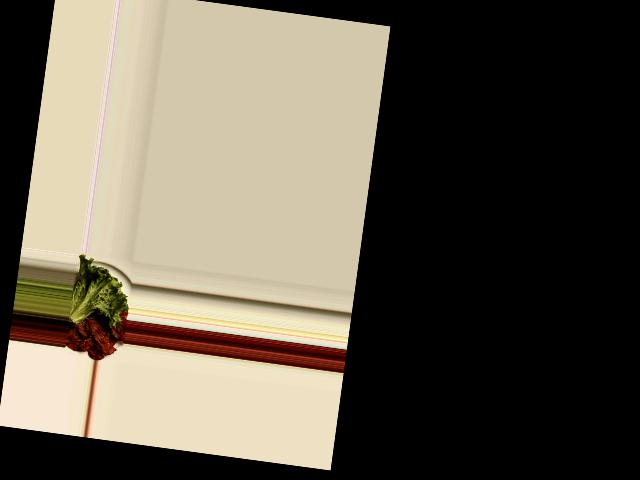lettuce: (67, 257, 132, 329)
